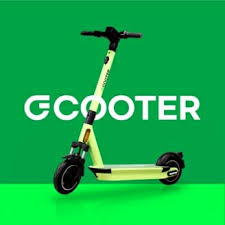kick_body: (99, 165, 161, 178)
kick_handler: (80, 26, 142, 49)
kick_wheel: (53, 156, 83, 194), (158, 153, 185, 182)
